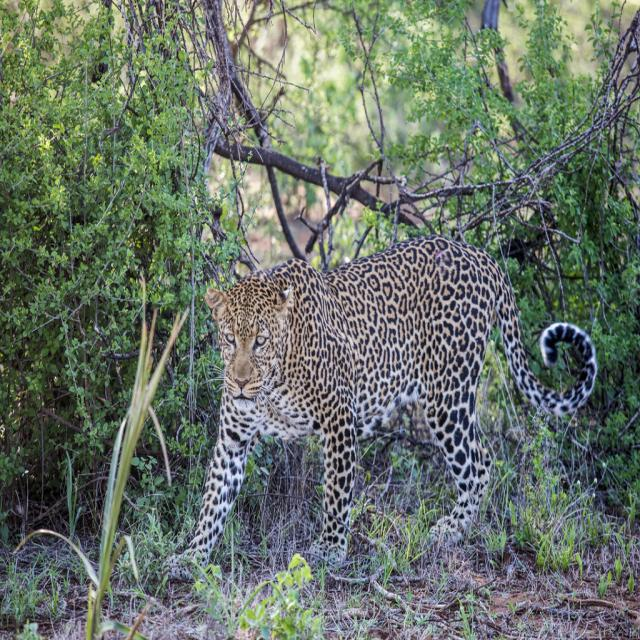Cheetah: (163, 235, 604, 578)
